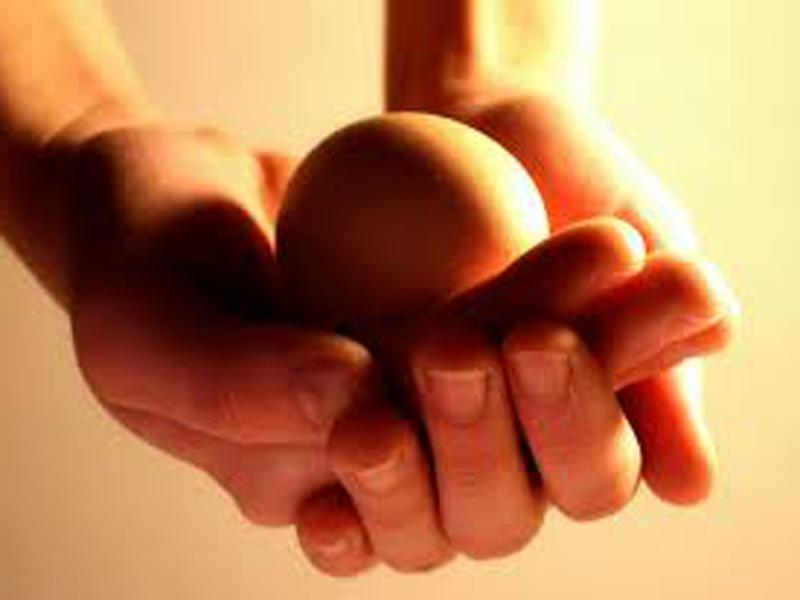Eggs: (272, 111, 549, 321)
